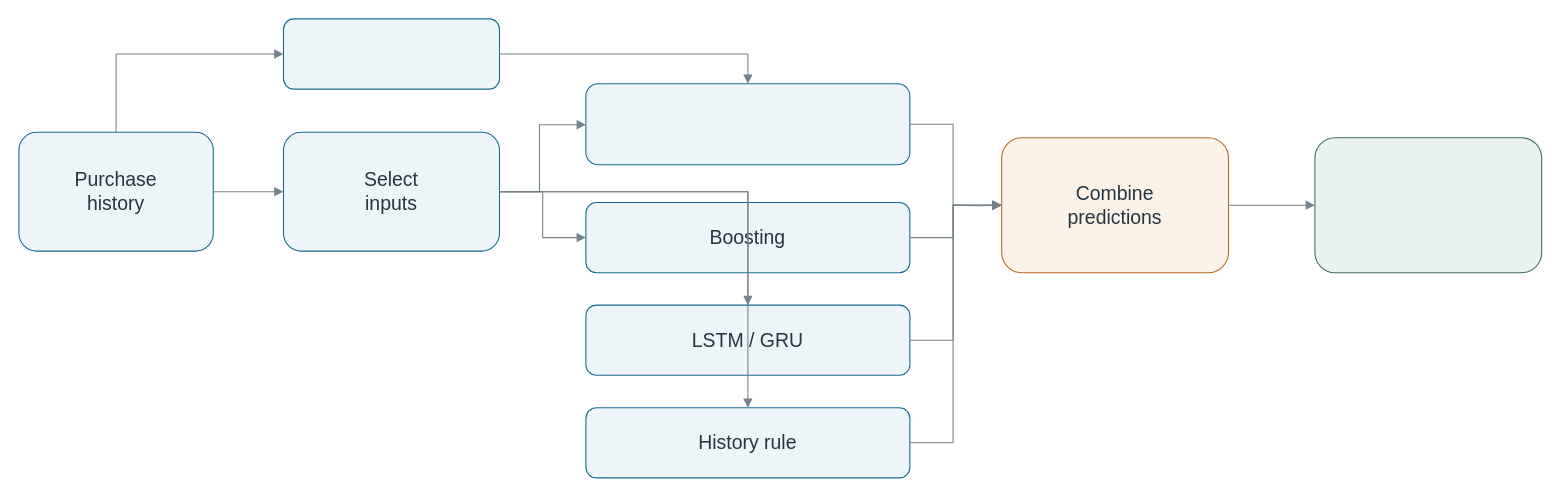
The diagram is 1561 pixels wide and 497 high, and some of its shapes have lost their labels. Here are the shapes that lost their labels. From the top down, the centre of each, then its label:
point 391,53: Basket graph
point 747,124: Graph-temporal
point 1428,205: Next gap in days
